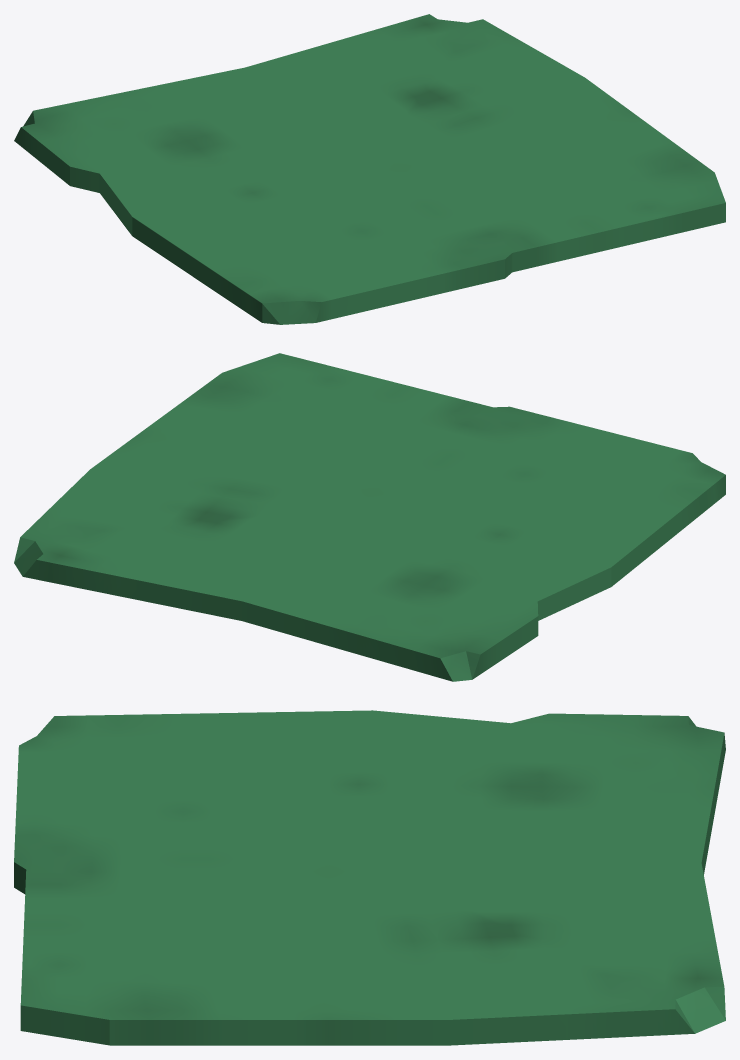
Rendered from DE_Guide_B_05.fbx.
3 renders of one model, top to bottom at view 1: azimuth 30°, elevation 25°; view 2: azimuth 150°, elevation 25°; view 3: azimuth 270°, elevation 25°, orthographic. The views are drawn at different scales.
Visible parts, largest first — view 1: DE_Guide_B_05; view 2: DE_Guide_B_05; view 3: DE_Guide_B_05.
Part boxes in pixels (bbox=[...]): DE_Guide_B_05: bbox=[14, 14, 725, 324]; DE_Guide_B_05: bbox=[14, 353, 725, 681]; DE_Guide_B_05: bbox=[14, 710, 725, 1045].
Bounding box in the file's own units: 207 × 8 × 202.
